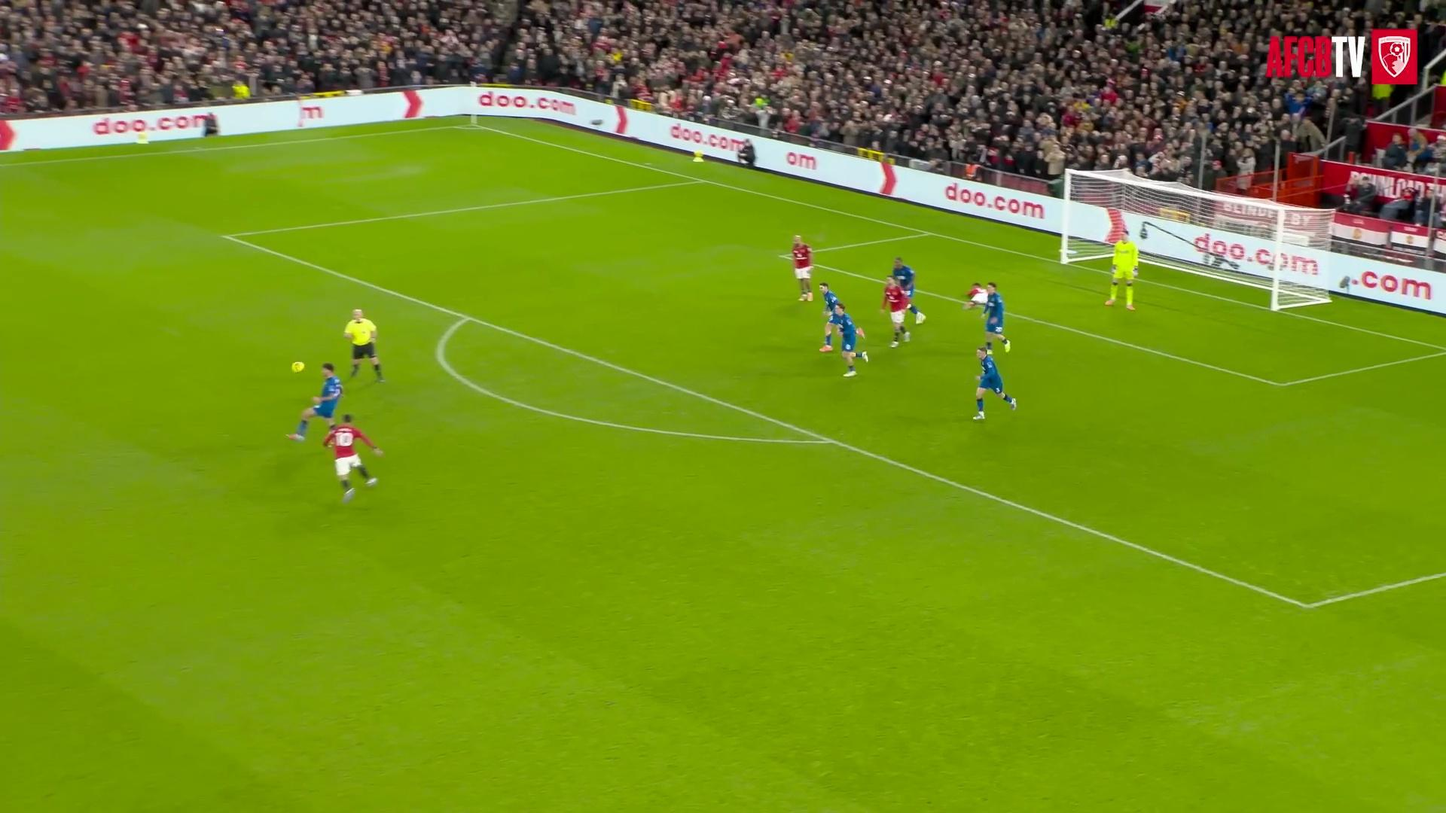football: (291, 361, 305, 373)
player: (323, 415, 382, 502), (287, 364, 343, 440), (974, 347, 1017, 420), (831, 303, 868, 376), (1106, 230, 1138, 309), (891, 258, 925, 324), (882, 276, 910, 347), (984, 282, 1010, 354), (819, 282, 840, 352), (792, 236, 812, 300), (963, 282, 986, 309)
referee: (343, 309, 384, 381)
